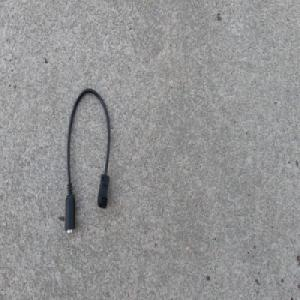Wire: (64, 86, 112, 237)
